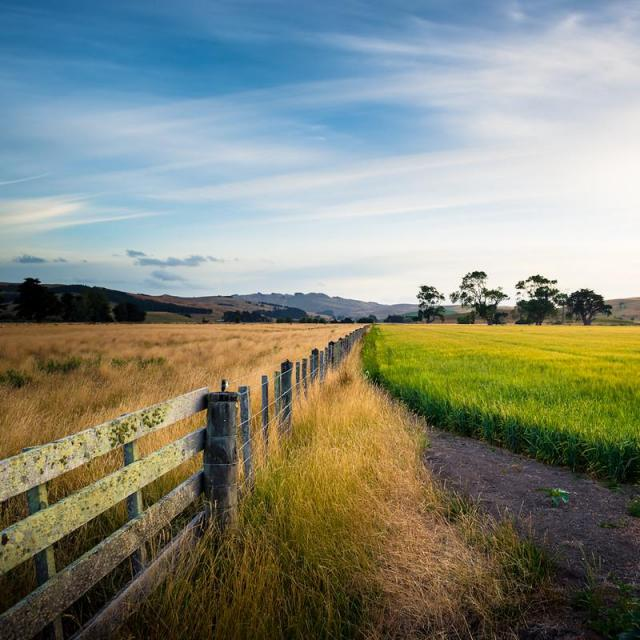eye: (237, 252, 378, 358)
